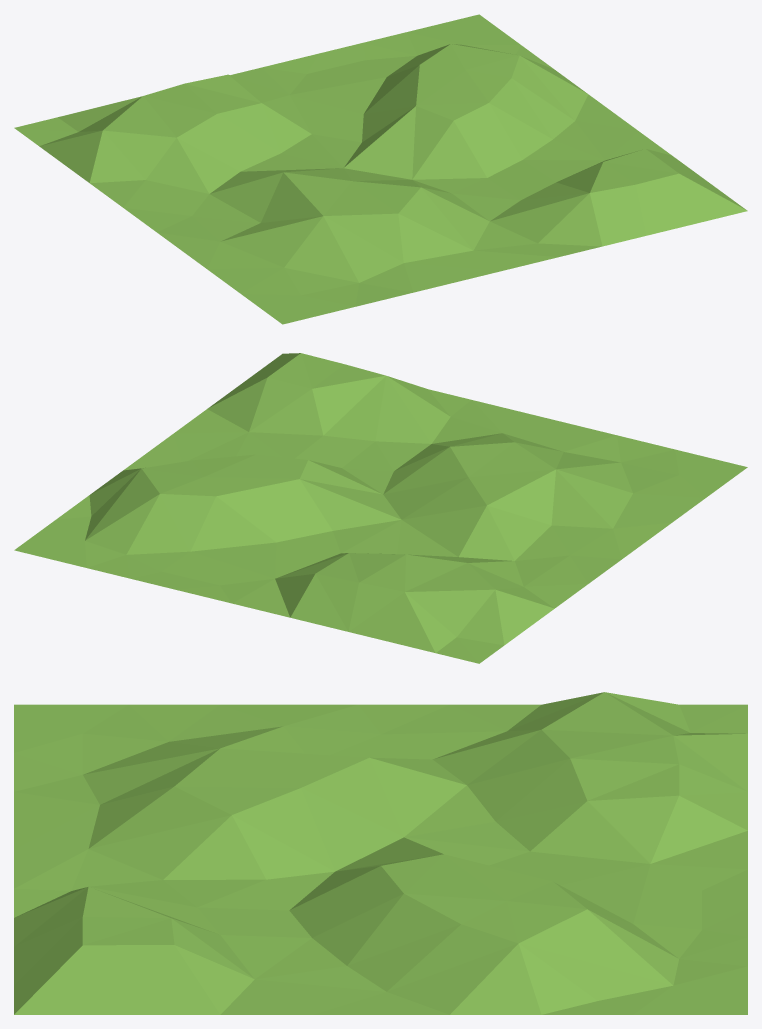
Rendered from MT_Terrain_S_c_21.fbx.
The picture shows the model from 3 angles, top to bottom: view 1: azimuth 30°, elevation 25°; view 2: azimuth 150°, elevation 25°; view 3: azimuth 270°, elevation 25°; orthographic projection. The views are drawn at different scales.
Visible parts, largest first — view 1: MT_Terrain_S_c_21; view 2: MT_Terrain_S_c_21; view 3: MT_Terrain_S_c_21.
Part boxes in pixels (box(x1,y1,x2,y2)): MT_Terrain_S_c_21: box(14, 14, 747, 324); MT_Terrain_S_c_21: box(14, 353, 747, 663); MT_Terrain_S_c_21: box(14, 692, 747, 1014).
Size of the model in its own units: 2500 by 187 by 2500.
